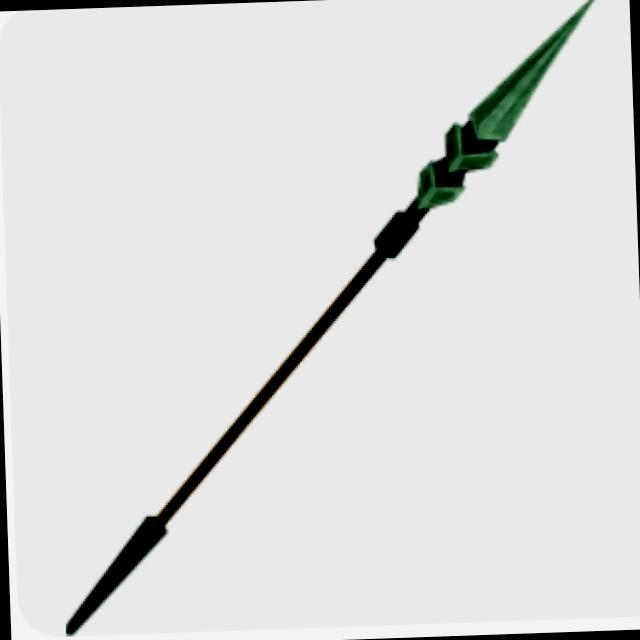spear: (27, 0, 635, 640)
